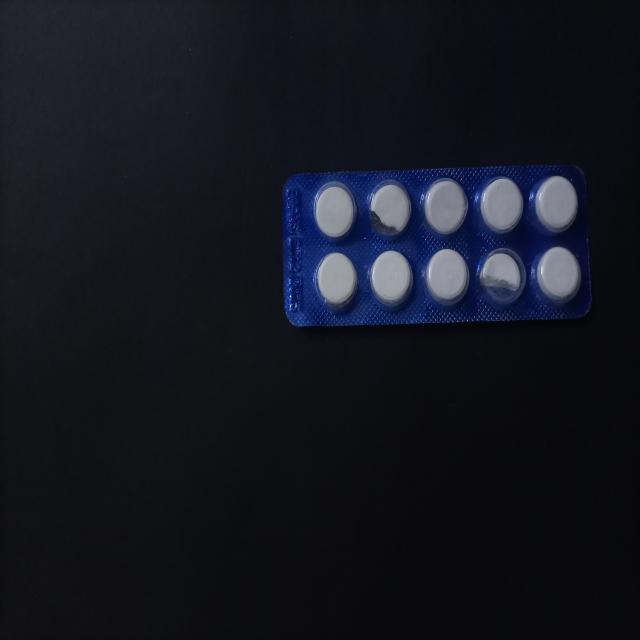defect: (476, 246, 528, 308), (365, 177, 413, 241)
